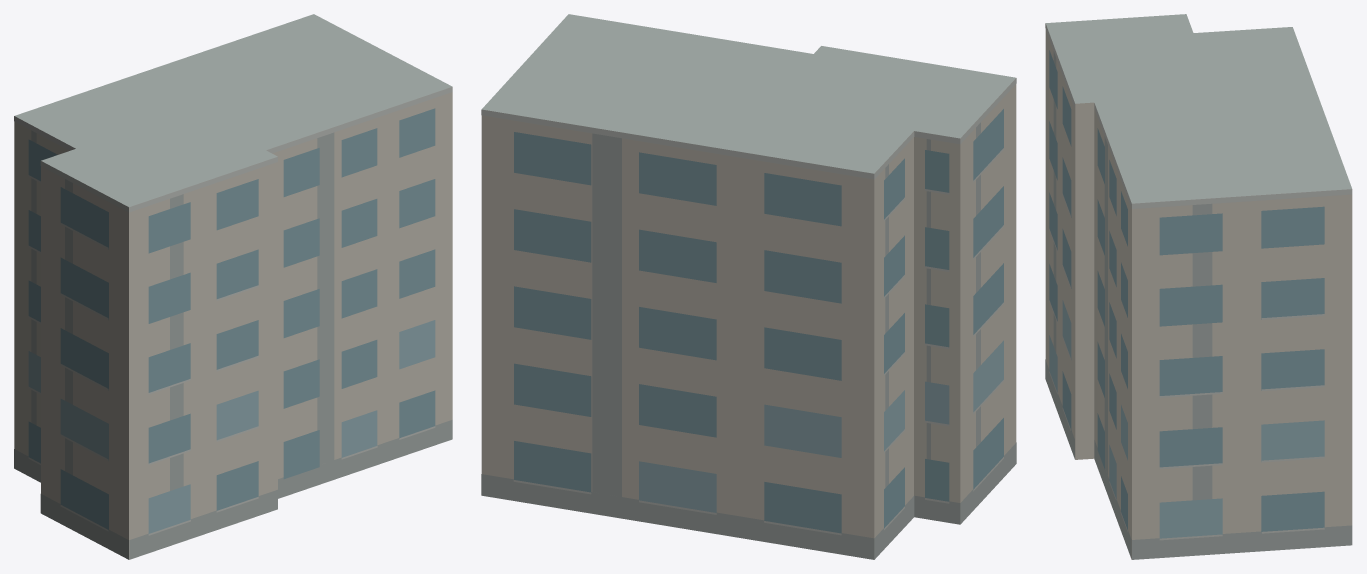
Rendered from survey-upis-33017218.glb.
3 views of the same model, side by side, from view 1: azimuth 30°, elevation 25°; view 2: azimuth 150°, elevation 25°; view 3: azimuth 270°, elevation 25° (orthographic). The views are drawn at different scales.
Parts seen in each view (by area): view 1: survey-upis-33017218.tmp; view 2: survey-upis-33017218.tmp; view 3: survey-upis-33017218.tmp.
Part boxes in pixels (x1,y1,x2,y2): survey-upis-33017218.tmp: [14, 14, 452, 559]; survey-upis-33017218.tmp: [481, 14, 1016, 559]; survey-upis-33017218.tmp: [1045, 14, 1352, 559].
Bounding box in the file's own units: 18.39 × 16.1 × 12.58.
